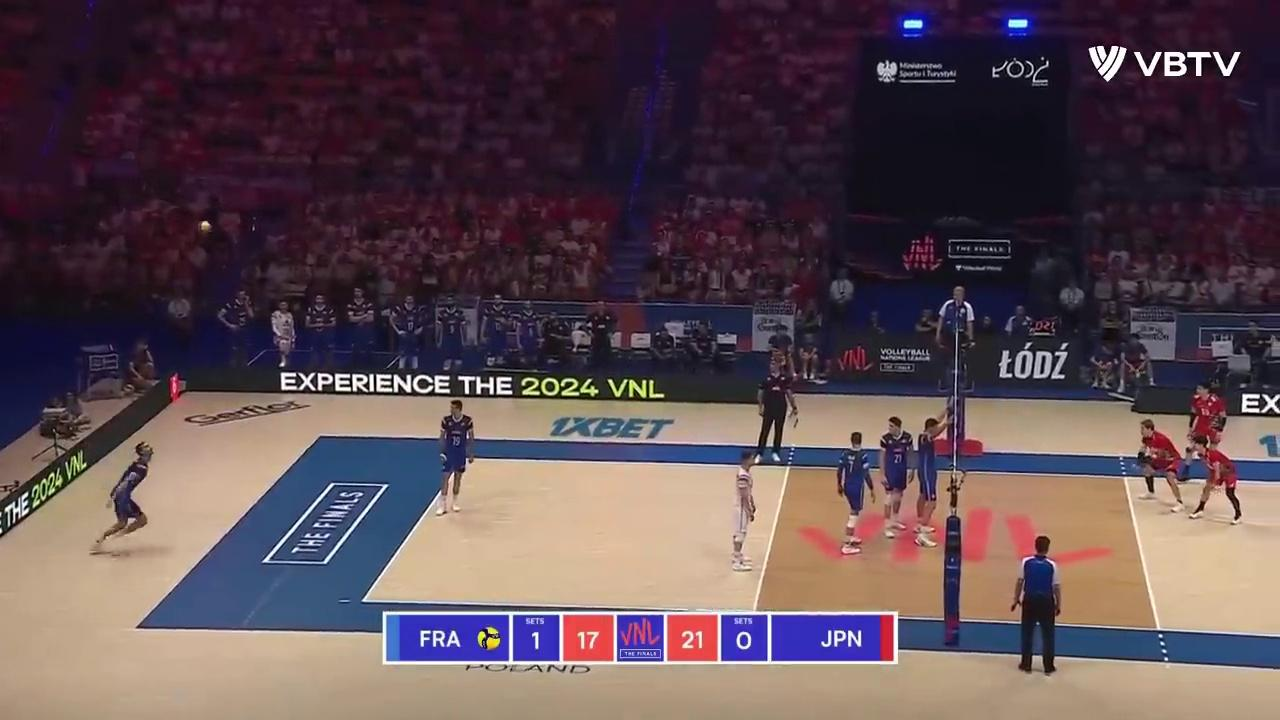ball: (202, 222, 211, 233)
